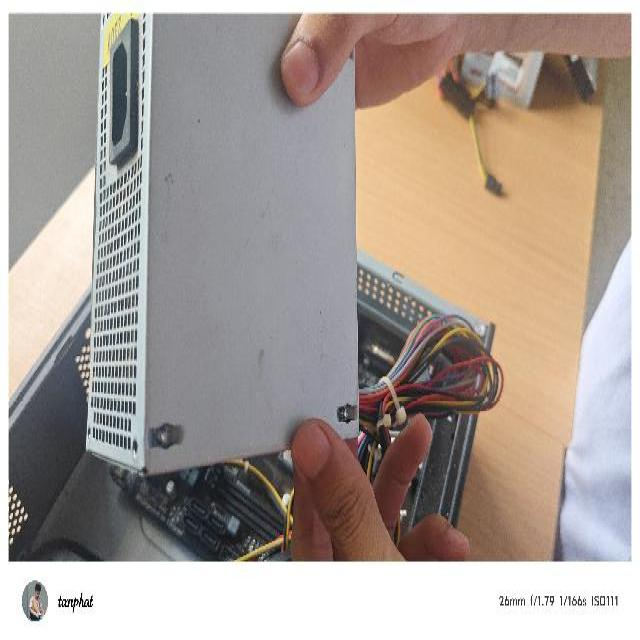PSU: (86, 14, 377, 477)
